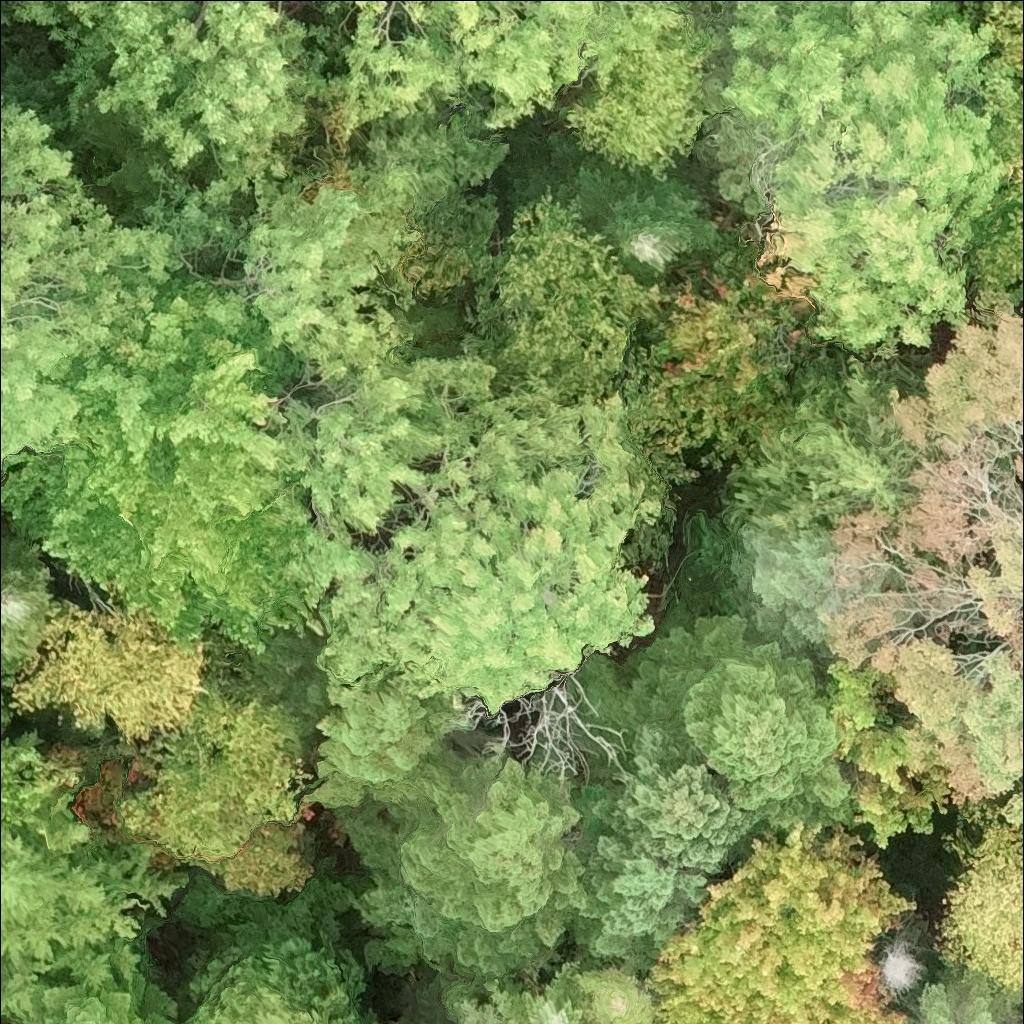crown: (0, 259, 321, 662), (693, 0, 1019, 358), (814, 290, 1023, 831), (373, 355, 664, 715), (609, 598, 857, 834), (344, 743, 590, 980), (640, 822, 919, 1023), (0, 93, 138, 473), (310, 0, 685, 135), (454, 186, 672, 396), (117, 667, 315, 877), (125, 0, 328, 198), (240, 178, 427, 389), (0, 823, 191, 1023), (719, 350, 923, 534), (630, 263, 812, 447), (512, 140, 730, 293), (281, 358, 447, 545), (575, 720, 758, 881), (557, 0, 720, 180), (11, 599, 211, 743), (719, 521, 912, 654), (11, 0, 206, 129), (820, 660, 952, 850), (348, 99, 515, 234), (300, 678, 446, 826), (568, 830, 706, 977), (286, 527, 393, 687), (113, 156, 242, 288), (181, 933, 368, 1023), (931, 818, 1023, 997), (0, 728, 106, 856), (971, 77, 1023, 303), (0, 531, 66, 673), (18, 972, 182, 1023), (538, 960, 661, 1023), (219, 812, 310, 896), (904, 964, 1023, 1023), (482, 975, 583, 1023), (980, 0, 1023, 97), (877, 935, 932, 998), (454, 995, 521, 1023), (973, 0, 982, 18)
